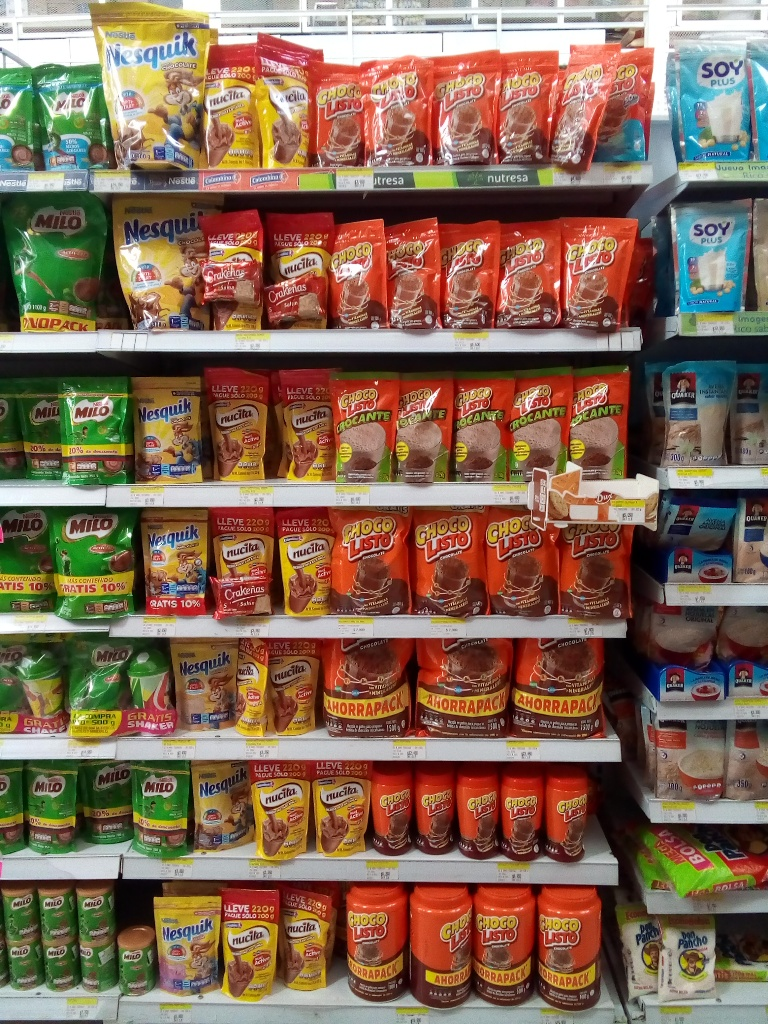COL0170102DYP25000: (329, 371, 397, 481)
COL0170103DYP1,500: (321, 634, 413, 741)
COL0170103DYP20000: (329, 216, 391, 327)
COL0170103TRR00100: (338, 881, 411, 1005)
COL0170103TRR30000: (366, 762, 412, 856)
COL0170203DYP25000: (5, 373, 66, 482)
COL0170203DYP50000: (69, 631, 130, 731)
COL0170203LAT20000: (116, 928, 156, 995)
COL0170205DYP20000: (31, 64, 111, 175)
COL0170303DYP20000: (191, 761, 251, 854)
COL0170305DYP20000: (152, 894, 220, 993)
COL0170306DYP20000: (168, 632, 240, 729)
